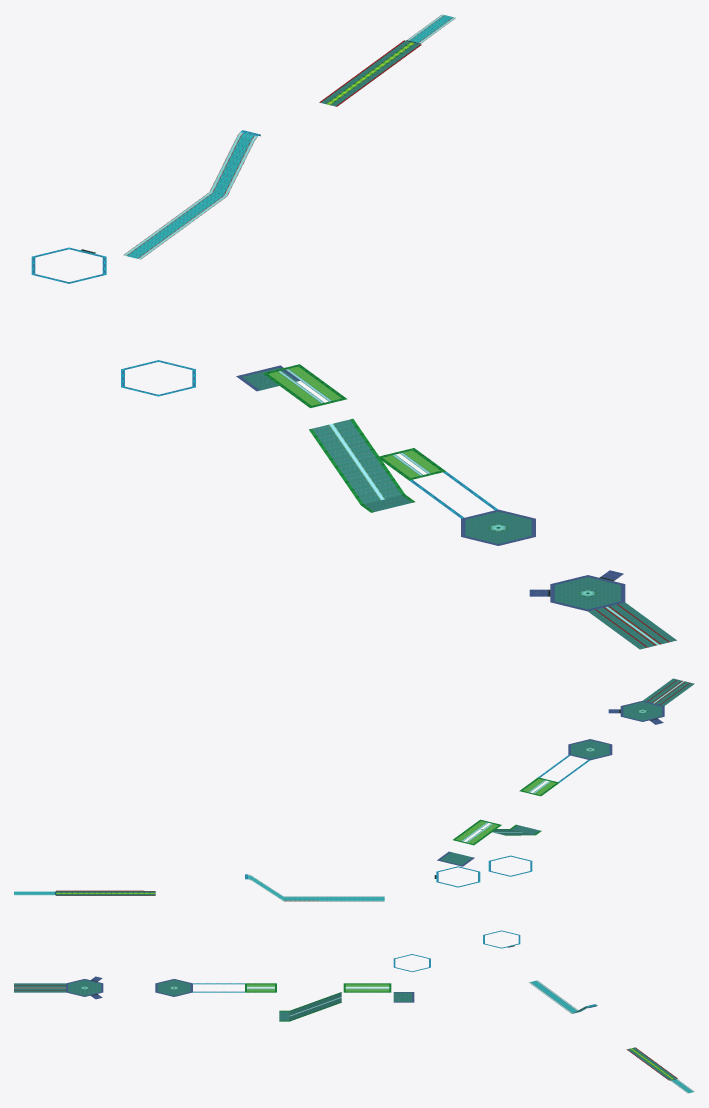
Rendered from S03_ONS_04.OBJ.
3 renders of one model, top to bottom at view 1: azimuth 30°, elevation 25°; view 2: azimuth 150°, elevation 25°; view 3: azimuth 270°, elevation 25°, orthographic. The views are drawn at different scales.
Parts seen in each view (by area): view 1: s03_ons_04_2, s03_ons_04_7, s03_ons_04_6, s03_ons_04_0, s03_ons_04_8, s03_ons_04_3, s03_ons_04_4, s03_ons_04_5; view 2: s03_ons_04_2, s03_ons_04_0, s03_ons_04_7, s03_ons_04_8, s03_ons_04_3, s03_ons_04_4, s03_ons_04_6, s03_ons_04_9; view 3: s03_ons_04_2, s03_ons_04_6, s03_ons_04_3, s03_ons_04_5, s03_ons_04_0, s03_ons_04_4, s03_ons_04_7, s03_ons_04_9, s03_ons_04_8.
Boxes of the visible parts, x1,y1,x2,y2 form: s03_ons_04_2: [242, 40, 676, 649]; s03_ons_04_7: [127, 15, 452, 258]; s03_ons_04_6: [263, 364, 445, 512]; s03_ons_04_0: [236, 365, 625, 611]; s03_ons_04_8: [123, 14, 455, 259]; s03_ons_04_3: [31, 130, 497, 518]; s03_ons_04_4: [268, 366, 440, 477]; s03_ons_04_5: [278, 369, 659, 645]; s03_ons_04_2: [56, 678, 694, 895]; s03_ons_04_0: [437, 700, 664, 866]; s03_ons_04_7: [14, 875, 384, 900]; s03_ons_04_8: [14, 874, 384, 901]; s03_ons_04_3: [245, 755, 589, 887]; s03_ons_04_4: [456, 779, 555, 843]; s03_ons_04_6: [453, 777, 559, 845]; s03_ons_04_9: [56, 679, 690, 895]; s03_ons_04_2: [14, 980, 676, 1080]; s03_ons_04_6: [245, 983, 391, 1021]; s03_ons_04_3: [193, 930, 597, 1008]; s03_ons_04_5: [14, 986, 389, 1016]; s03_ons_04_0: [66, 976, 414, 1002]; s03_ons_04_4: [247, 984, 389, 991]; s03_ons_04_7: [531, 980, 693, 1093]; s03_ons_04_9: [14, 985, 677, 1080]; s03_ons_04_8: [529, 980, 694, 1093].
Size of the model in its own units: 3391 by 550 by 6549.
